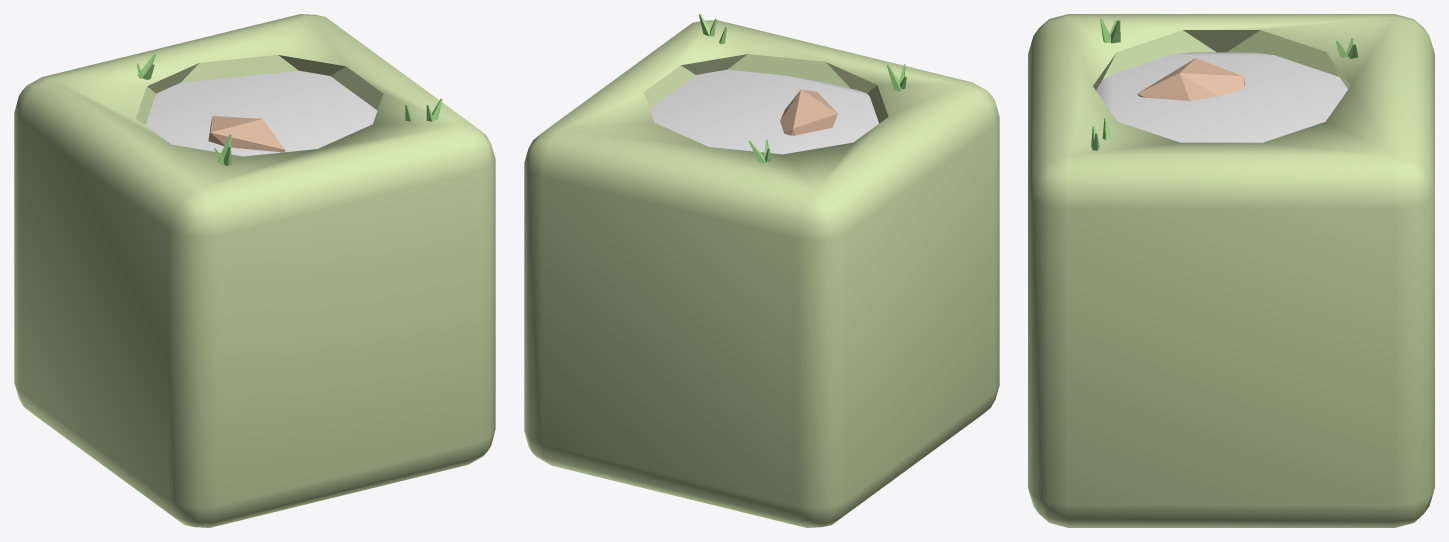
File: pond1.fbx
The picture shows the model from 3 angles, left to right: view 1: azimuth 30°, elevation 25°; view 2: azimuth 150°, elevation 25°; view 3: azimuth 270°, elevation 25°; orthographic projection. The views are drawn at different scales.
Visible parts, largest first — view 1: Cube.026, Cube.027, Icosphere.017; view 2: Cube.026, Cube.027, Icosphere.017; view 3: Cube.026, Cube.027, Icosphere.017.
Boxes of the visible parts, <box> form: Cube.026: <box>14,14,495,527</box>; Cube.027: <box>145,70,377,156</box>; Icosphere.017: <box>208,116,284,152</box>; Cube.026: <box>524,20,999,527</box>; Cube.027: <box>650,69,878,154</box>; Icosphere.017: <box>780,89,837,135</box>; Cube.026: <box>1028,14,1434,527</box>; Cube.027: <box>1096,52,1347,142</box>; Icosphere.017: <box>1137,58,1245,100</box>.
Size of the model in its own units: 200 by 214 by 200.
